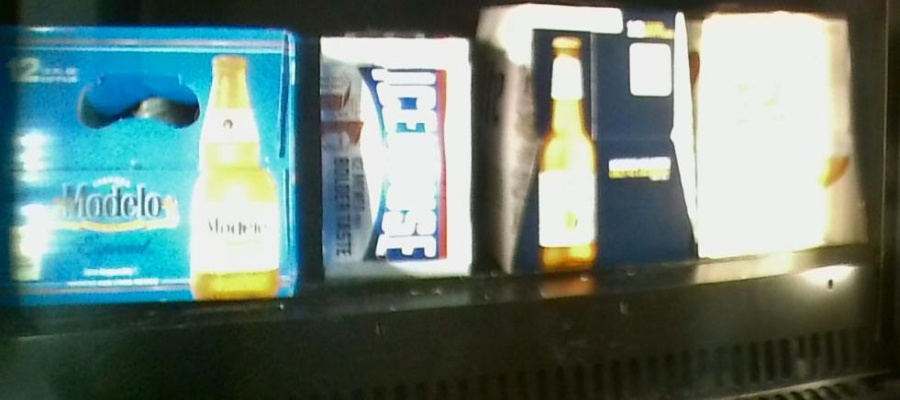bottle: (1, 26, 300, 301), (477, 5, 693, 267), (691, 11, 863, 253), (313, 33, 472, 281)
